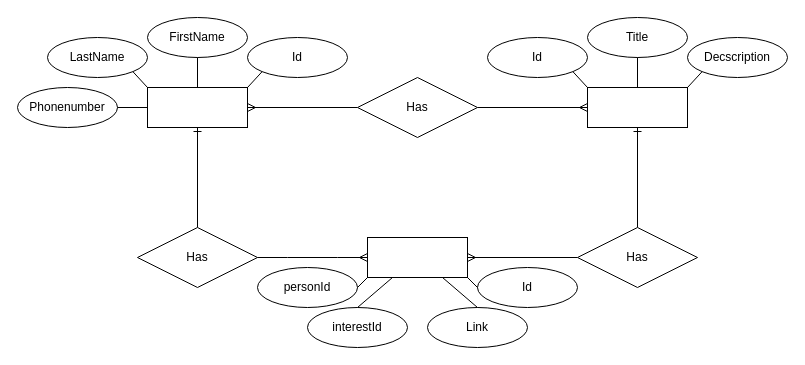
Image size: 805x365. Some labels were removed from this diagram. The centre of each missing label's shape, as x and y in pixels:
Interest: point (637, 107)
Person: point (197, 107)
WebsiteLink: point (417, 257)
